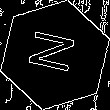N_E: (26, 30, 84, 80)
